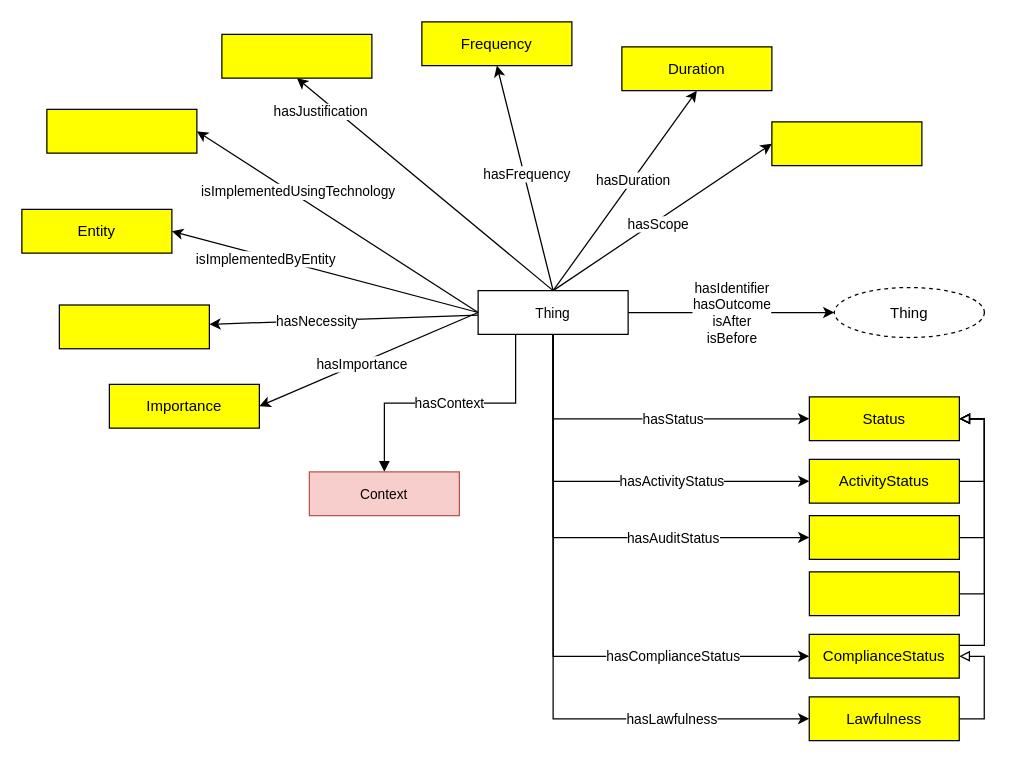
This 1016x763 diagram has some shape labels left out. Each missing label, with the centre of its shape:
AuditStatus: point (883, 536)
Justification: point (296, 55)
Necessity: point (133, 326)
RequestStatus: point (883, 593)
Scope: point (846, 143)
Technology: point (121, 130)
